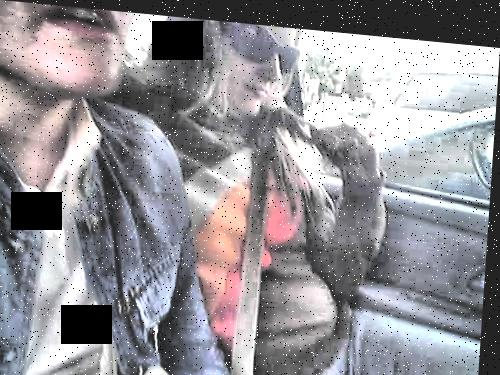seatbelt: (214, 104, 302, 375)
